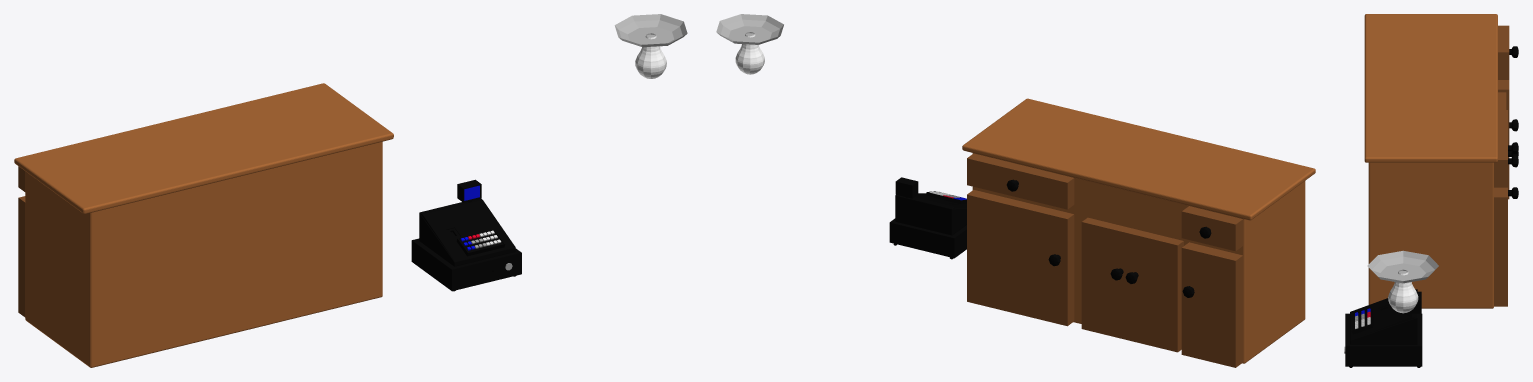
Rendered from Bancada.fbx.
3 renders of one model, left to right at view 1: azimuth 30°, elevation 25°; view 2: azimuth 150°, elevation 25°; view 3: azimuth 270°, elevation 25°, orthographic. The views are drawn at different scales.
Visible parts, largest first — view 1: Bancada, CaixaRegistradora, Cylinder; view 2: Bancada, CaixaRegistradora, Cylinder; view 3: Bancada, CaixaRegistradora, Cylinder.
Boxes of the visible parts, box(x1,y1,x2,y2) form: Bancada: box(14, 83, 393, 367); CaixaRegistradora: box(411, 179, 521, 291); Cylinder: box(614, 14, 687, 78); Bancada: box(962, 98, 1315, 367); CaixaRegistradora: box(889, 177, 966, 259); Cylinder: box(716, 14, 783, 74); Bancada: box(1364, 14, 1518, 308); CaixaRegistradora: box(1344, 289, 1422, 367); Cylinder: box(1367, 250, 1438, 313).
Size of the model in its own units: 443 by 128 by 113.
